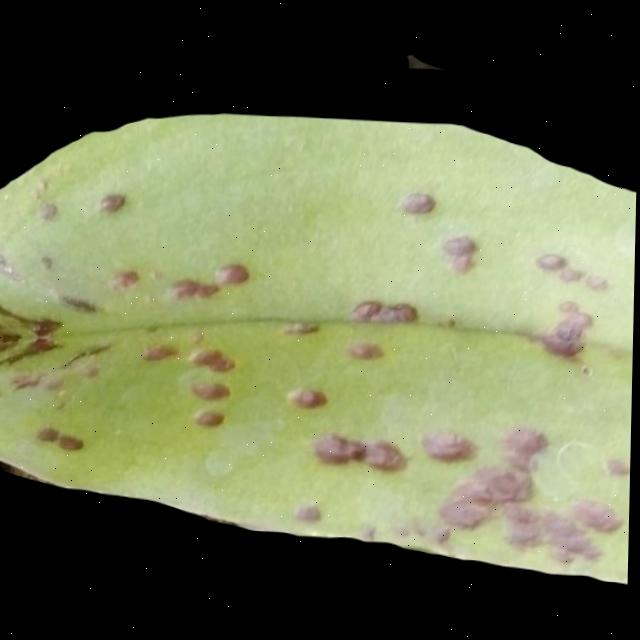mite: (30, 181, 256, 463), (32, 182, 137, 460), (188, 345, 239, 432), (93, 186, 136, 222), (192, 379, 235, 402), (216, 261, 253, 286), (61, 294, 102, 316), (195, 408, 229, 430), (113, 269, 144, 293), (99, 191, 129, 215), (538, 248, 570, 270), (60, 435, 88, 453)
spots: (0, 103, 638, 582)
